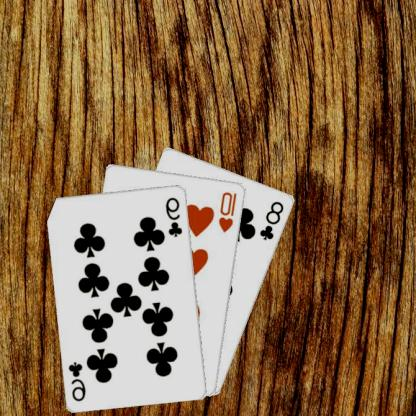10H: (218, 189, 240, 233)
8C: (259, 198, 287, 242)
9C: (165, 194, 186, 238), (68, 358, 89, 402)
